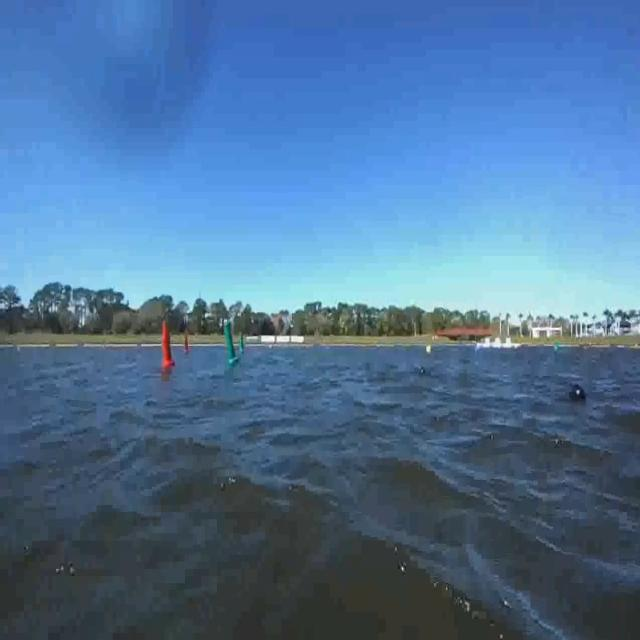blue-buoy: (565, 384, 589, 405)
green-column-buoy: (224, 322, 241, 367), (240, 334, 246, 353)
red-column-buoy: (160, 321, 176, 369), (183, 334, 190, 354)
yellow-buoy: (425, 343, 433, 358)
